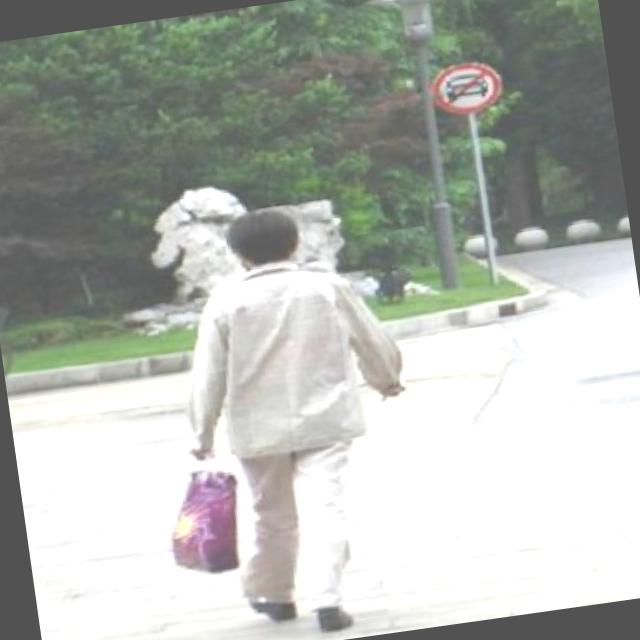Person: (148, 195, 451, 640)
